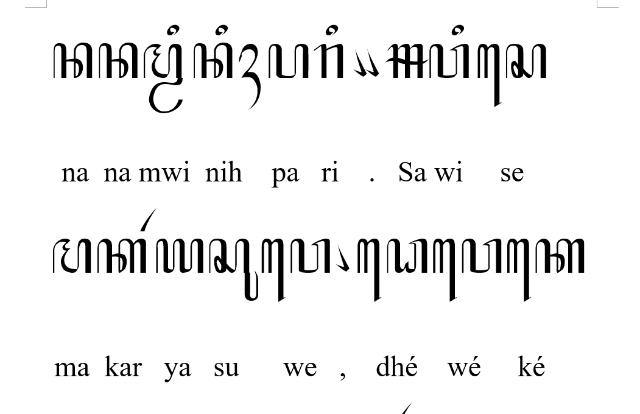S: (384, 44, 428, 78)
_h1: (239, 44, 261, 110)
_r1: (140, 206, 158, 232)
dh: (387, 239, 428, 273)
e1: (356, 238, 382, 302), (477, 43, 501, 107), (262, 238, 286, 302), (433, 238, 457, 302), (507, 238, 531, 302)
i: (167, 24, 179, 36), (216, 24, 228, 36), (326, 24, 338, 36), (452, 24, 464, 36)
k: (535, 238, 585, 274), (98, 238, 146, 274)
kom: (353, 49, 367, 77), (365, 48, 379, 76), (335, 243, 349, 271)
m: (52, 238, 92, 274)
mw: (143, 43, 183, 113)
n: (53, 42, 93, 78), (99, 42, 138, 78), (194, 42, 232, 78)
p: (268, 44, 308, 78)
r: (314, 44, 344, 78)
s: (506, 44, 546, 78)
su: (209, 238, 259, 302)
w: (290, 238, 330, 274), (461, 238, 501, 274), (429, 44, 469, 78)
y: (155, 238, 203, 274)
